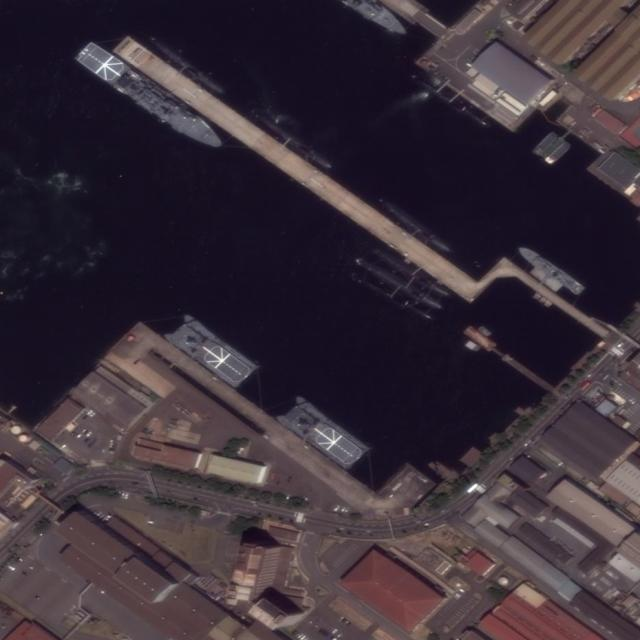Auxiliary Ships: (163, 311, 261, 392), (275, 391, 371, 472)
Destroyer: (74, 40, 230, 157)
Dock: (109, 32, 485, 306)
Other Warship: (516, 242, 586, 296)
Submarine: (251, 109, 331, 170), (354, 256, 442, 310), (149, 37, 226, 96), (409, 72, 487, 127), (372, 248, 450, 298), (351, 273, 431, 321), (382, 203, 454, 255)
